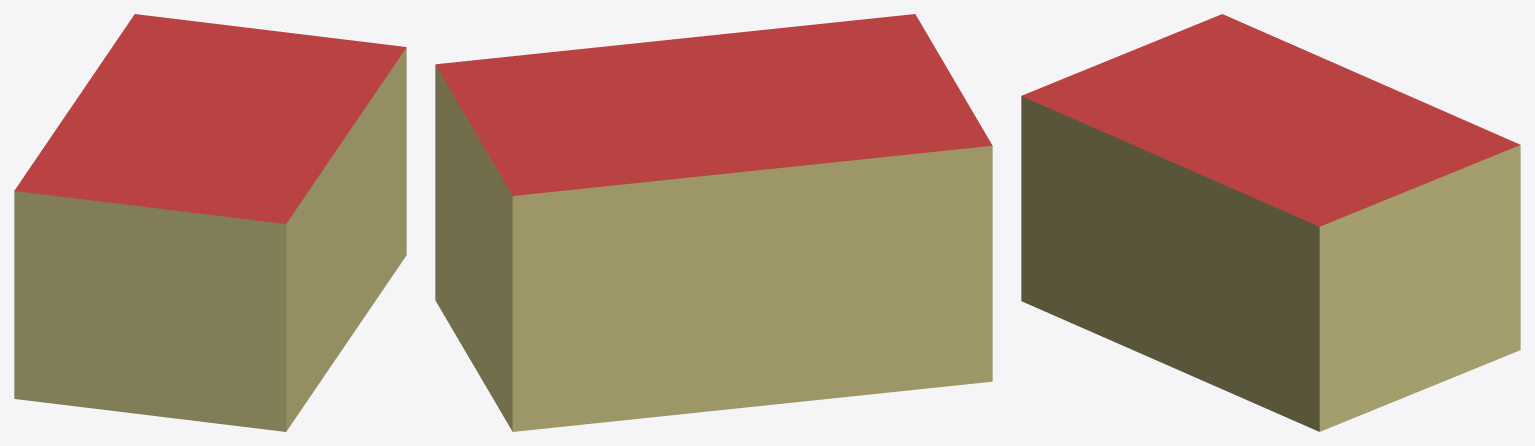
3 renders of one model, left to right at view 1: azimuth 30°, elevation 25°; view 2: azimuth 150°, elevation 25°; view 3: azimuth 270°, elevation 25°, orthographic. The views are drawn at different scales.
Parts seen in each view (by area): view 1: group_4, group_3; view 2: group_4, group_3; view 3: group_4, group_3.
Boxes of the visible parts, <box> form: group_4: <box>14,48,406,431</box>; group_3: <box>14,14,406,223</box>; group_4: <box>435,65,992,431</box>; group_3: <box>435,14,992,195</box>; group_4: <box>1021,96,1520,431</box>; group_3: <box>1021,14,1520,226</box>.
Bounding box in the file's own units: 12.66 × 12.56 × 5.69.
